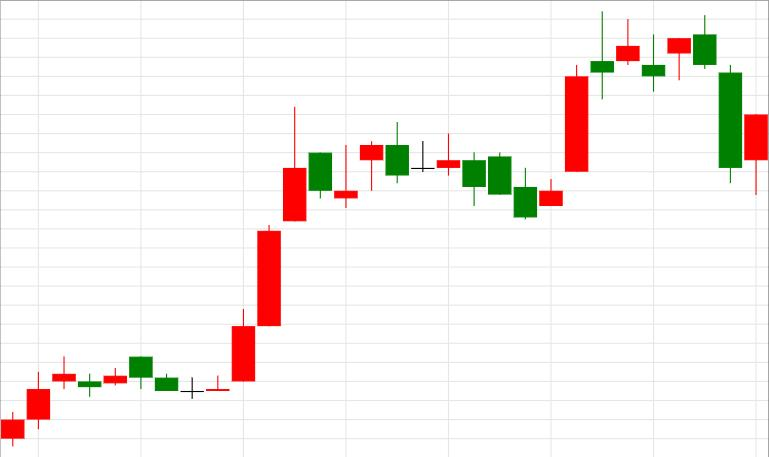three_white_soldiers_rise: (130, 108, 306, 399)
